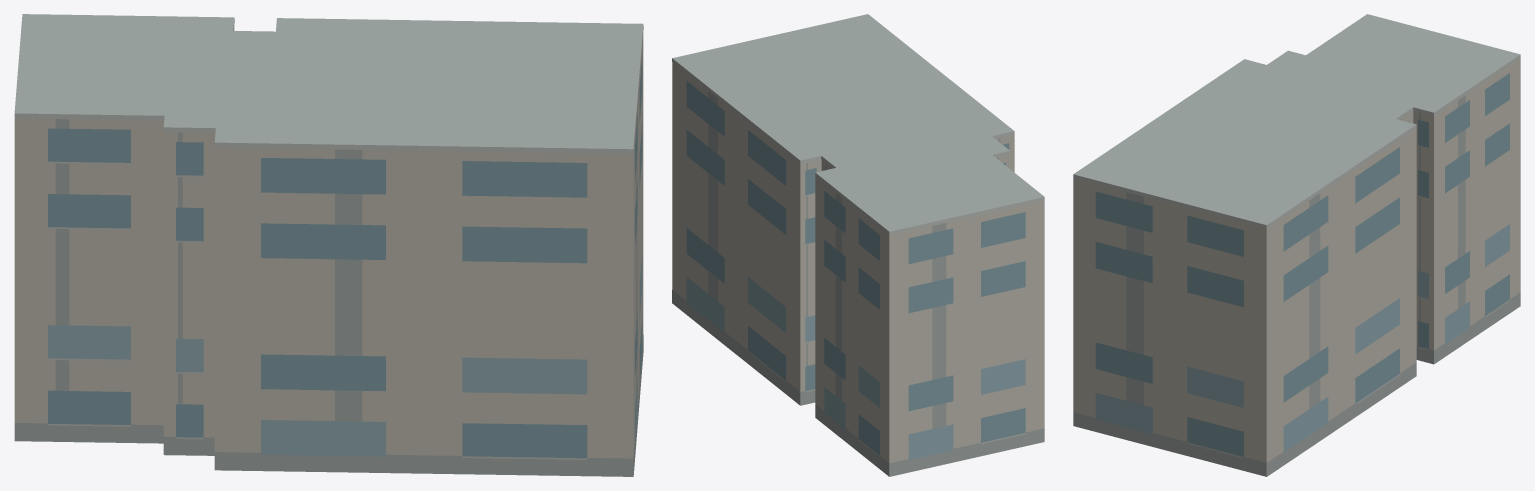
Rendered from survey-upis-32541466.glb.
3 views of the same model, side by side, from view 1: azimuth 30°, elevation 25°; view 2: azimuth 150°, elevation 25°; view 3: azimuth 270°, elevation 25° (orthographic). The views are drawn at different scales.
Parts seen in each view (by area): view 1: survey-upis-32541466.tmp; view 2: survey-upis-32541466.tmp; view 3: survey-upis-32541466.tmp.
Boxes of the visible parts, bbox=[...] form: survey-upis-32541466.tmp: bbox=[14, 14, 643, 476]; survey-upis-32541466.tmp: bbox=[672, 14, 1044, 476]; survey-upis-32541466.tmp: bbox=[1073, 14, 1520, 476].
Size of the model in its own units: 28.62 by 15.9 by 25.63.
